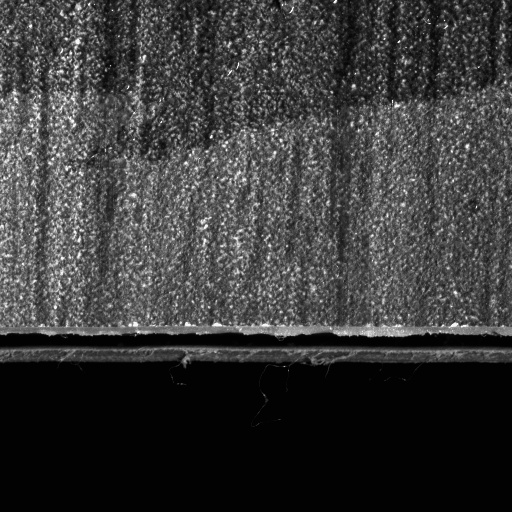kaijiao: (0, 320, 511, 370)
